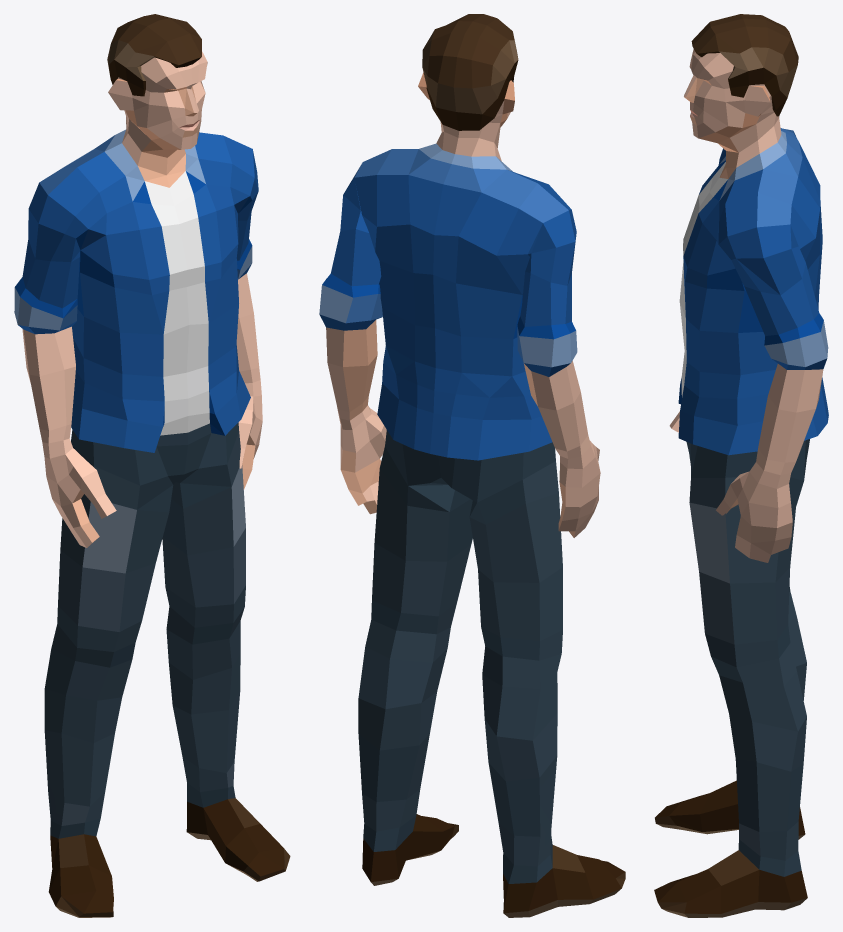
Rendered from zhurenxian.glb.
The picture shows the model from 3 angles, left to right: view 1: azimuth 30°, elevation 25°; view 2: azimuth 150°, elevation 25°; view 3: azimuth 270°, elevation 25°; orthographic projection.
Visible parts, largest first — view 1: huitugou_2139_326; view 2: huitugou_2139_326; view 3: huitugou_2139_326.
Part boxes in pixels (x1=…): huitugou_2139_326: x1=14, y1=14, x2=290, y2=917; huitugou_2139_326: x1=319, y1=14, x2=625, y2=917; huitugou_2139_326: x1=654, y1=14, x2=828, y2=917.
Size of the model in its own units: 0.525 by 1.75 by 0.3252.
Materials: 1 (1 with a texture image).
